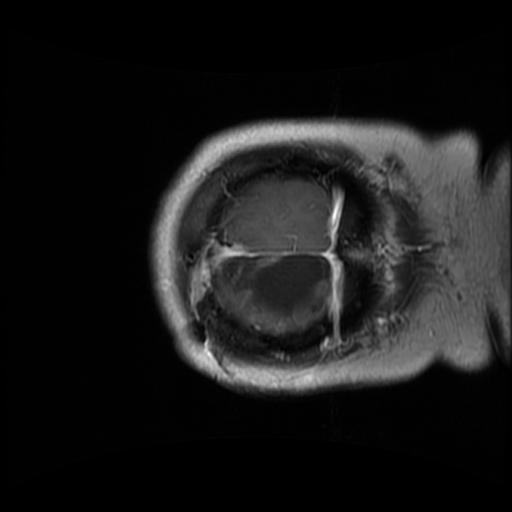glioma: (223, 254, 330, 314)
